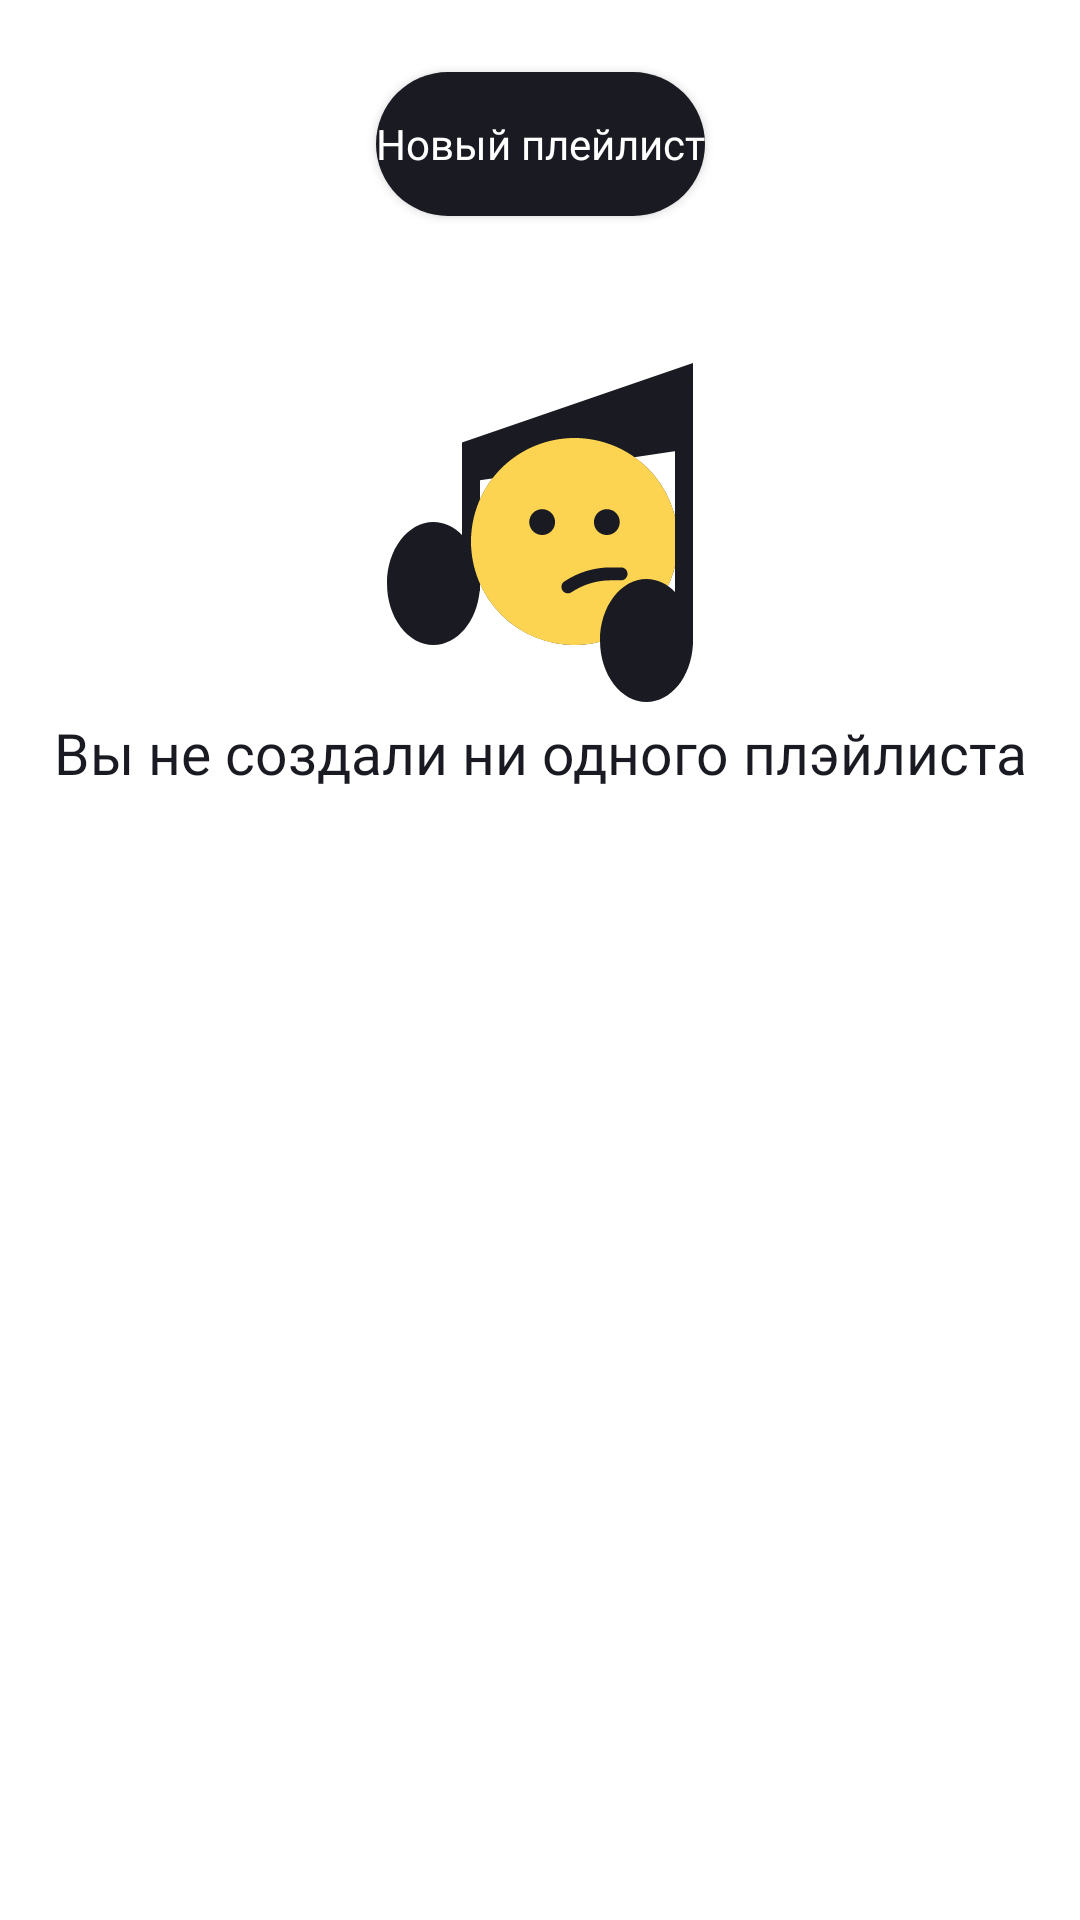

Point at icon controls on the screen. Image size 1080 x 1920, points as (x,y).
empty results error: (540,532)
